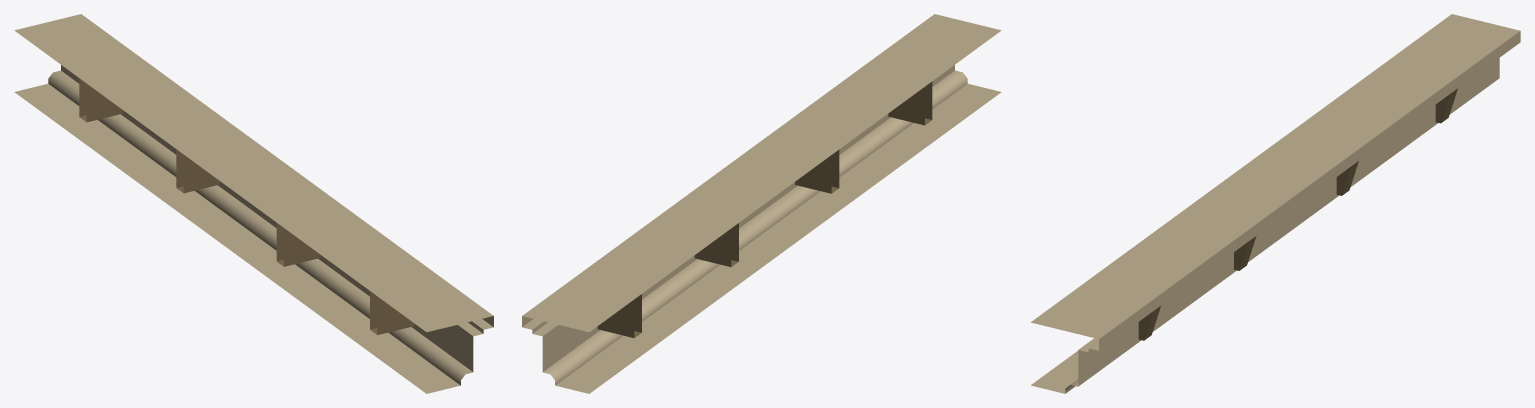
The model's file is modular break mid.fbx.
The picture shows the model from 3 angles, left to right: view 1: azimuth 30°, elevation 25°; view 2: azimuth 150°, elevation 25°; view 3: azimuth 330°, elevation 25°; orthographic projection. The views are drawn at different scales.
Visible parts, largest first — view 1: pCube440; view 2: pCube440; view 3: pCube440.
Part boxes in pixels (x1,y1,x2,y2): pCube440: (14, 14, 493, 393); pCube440: (522, 14, 1001, 393); pCube440: (1030, 14, 1520, 393).
Size of the model in its own units: 47.01 by 41.21 by 500.
Materials: 1 (1 with a texture image).
